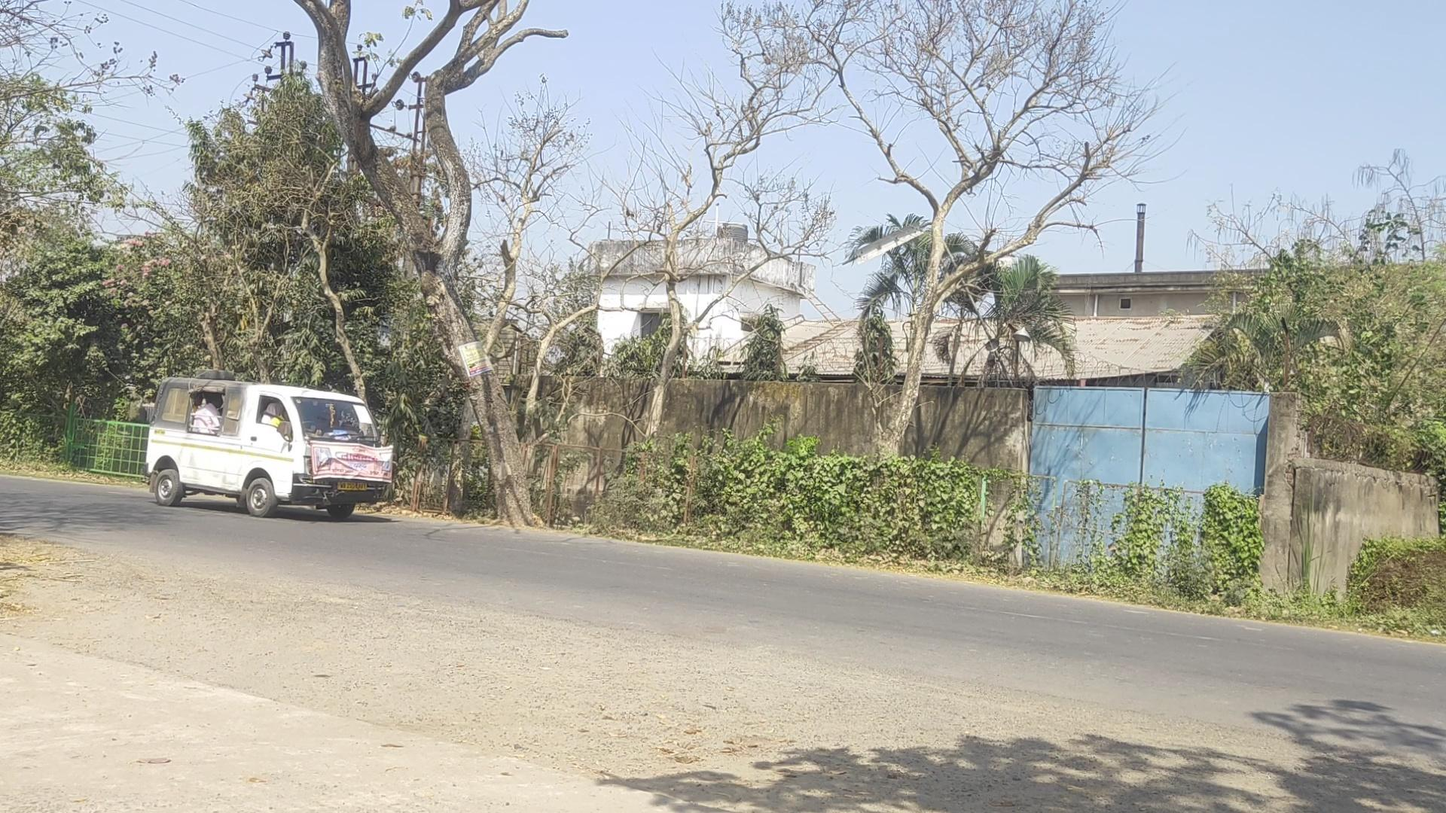van: (144, 369, 393, 519)
